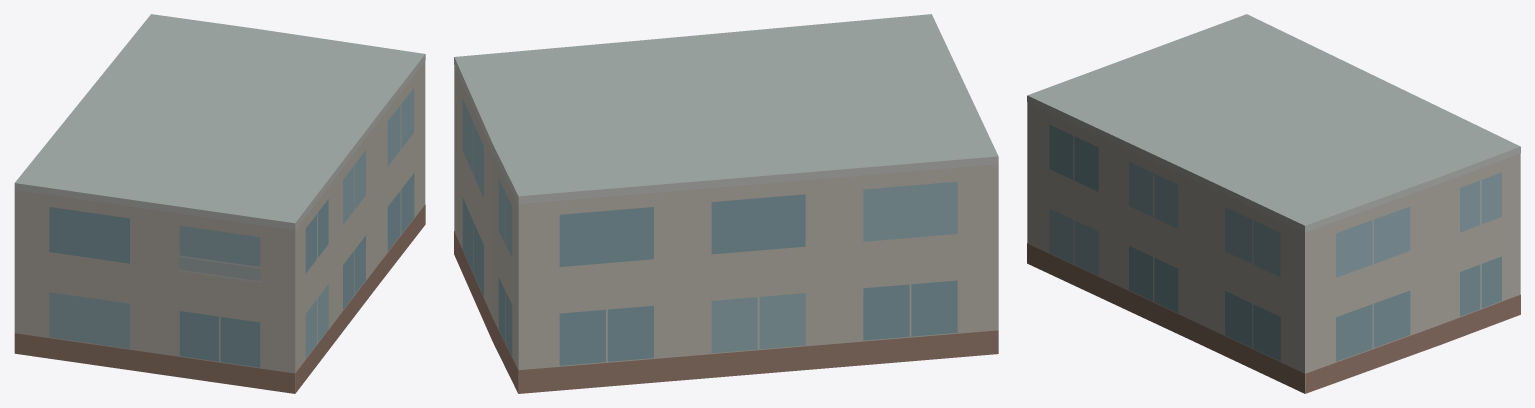
The model's file is survey-upis-32642107.glb.
3 renders of one model, left to right at view 1: azimuth 30°, elevation 25°; view 2: azimuth 150°, elevation 25°; view 3: azimuth 270°, elevation 25°, orthographic. The views are drawn at different scales.
Visible parts, largest first — view 1: survey-upis-32642107.tmp; view 2: survey-upis-32642107.tmp; view 3: survey-upis-32642107.tmp.
Part boxes in pixels (box(x1,y1,x2,y2)): survey-upis-32642107.tmp: box(14, 14, 425, 393); survey-upis-32642107.tmp: box(454, 14, 998, 393); survey-upis-32642107.tmp: box(1027, 14, 1520, 393).
Size of the model in its own units: 16.49 by 6.1 by 16.24.
